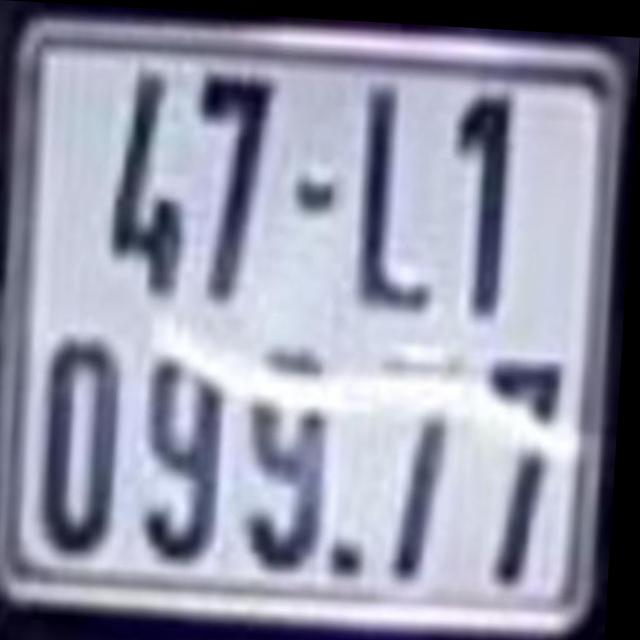0: (46, 331, 130, 549)
1: (449, 85, 510, 310)
4: (114, 65, 193, 289)
7: (478, 341, 566, 577), (377, 341, 466, 571), (191, 60, 277, 296)
9: (246, 341, 340, 567), (145, 343, 229, 559)
L: (357, 72, 446, 305)
